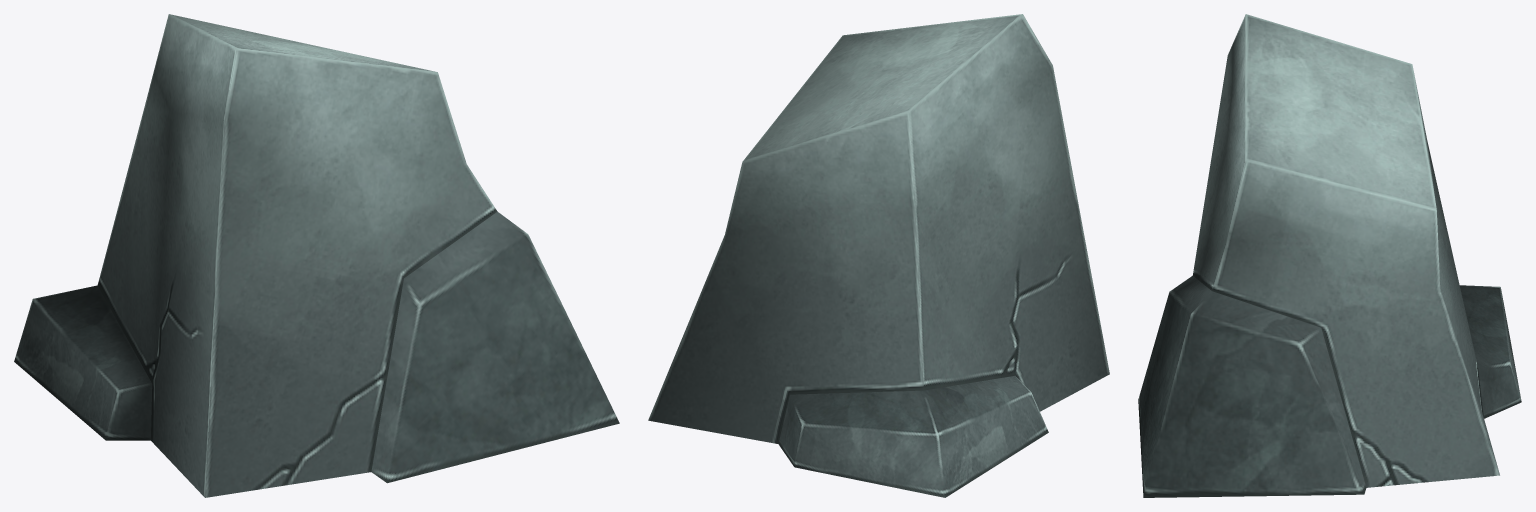
Rendered from Rock 7.fbx.
The picture shows the model from 3 angles, left to right: view 1: azimuth 30°, elevation 25°; view 2: azimuth 150°, elevation 25°; view 3: azimuth 270°, elevation 25°; orthographic projection. The views are drawn at different scales.
Parts seen in each view (by area): view 1: pPlane7; view 2: pPlane7; view 3: pPlane7.
Boxes of the visible parts, x1,y1,x2,y2 form: pPlane7: (14,14,619,497); pPlane7: (648,14,1109,497); pPlane7: (1138,14,1521,497).
Size of the model in its own units: 3.99 by 3.88 by 3.86.
